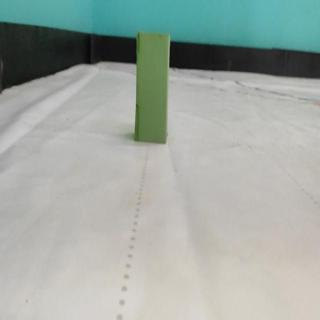greenbox: (135, 30, 173, 147)
